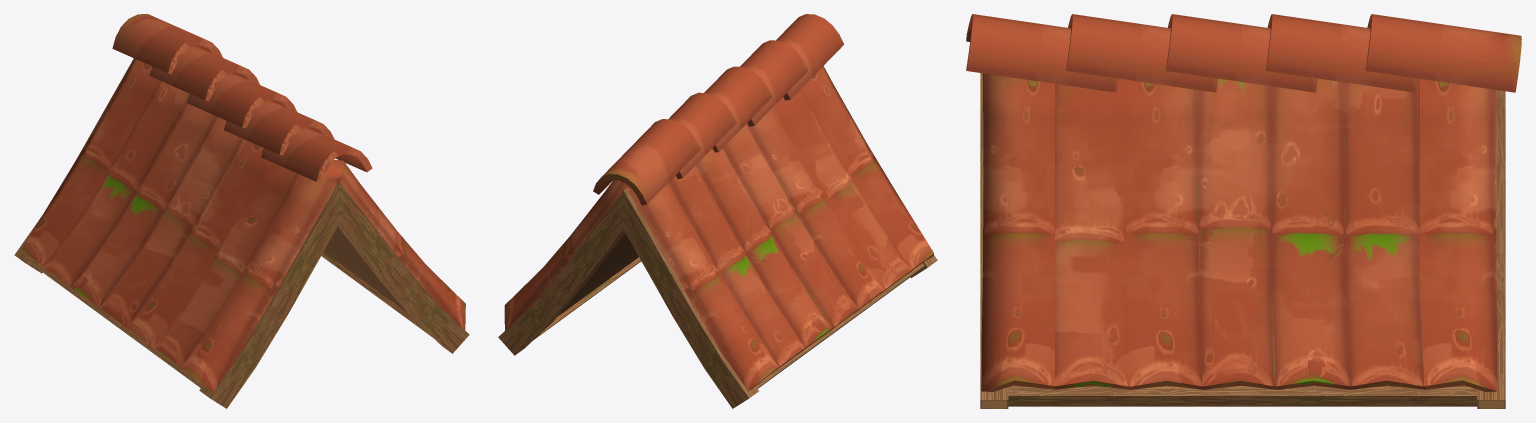
Rendered from roof-2x4-roundtile.glb.
3 views of the same model, side by side, from view 1: azimuth 30°, elevation 25°; view 2: azimuth 150°, elevation 25°; view 3: azimuth 270°, elevation 25° (orthographic). The views are drawn at different scales.
Parts seen in each view (by area): view 1: Roof_2x4_RoundTile; view 2: Roof_2x4_RoundTile; view 3: Roof_2x4_RoundTile.
Part boxes in pixels (x1,y1,x2,y2): Roof_2x4_RoundTile: (14, 14, 469, 408); Roof_2x4_RoundTile: (498, 14, 937, 408); Roof_2x4_RoundTile: (966, 14, 1521, 408).
Size of the model in its own units: 3.29 by 2.67 by 4.23.
Materials: 2 (2 with a texture image).
